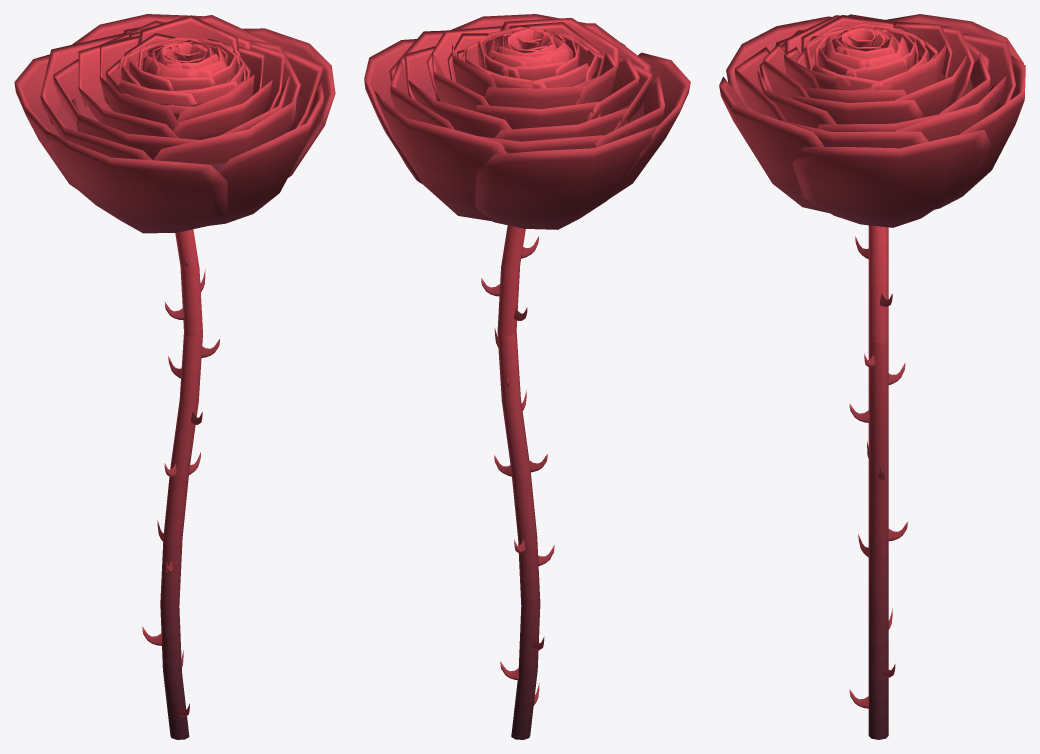
File: Rose_Thorn_Source_Adjusted.fbx
3 views of the same model, side by side, from view 1: azimuth 30°, elevation 25°; view 2: azimuth 150°, elevation 25°; view 3: azimuth 270°, elevation 25° (orthographic).
Parts seen in each view (by area): view 1: Rose_Thorn_Source_Adjusted; view 2: Rose_Thorn_Source_Adjusted; view 3: Rose_Thorn_Source_Adjusted.
Part boxes in pixels (bbox=[...]): Rose_Thorn_Source_Adjusted: bbox=[14, 14, 335, 739]; Rose_Thorn_Source_Adjusted: bbox=[364, 14, 690, 739]; Rose_Thorn_Source_Adjusted: bbox=[719, 14, 1025, 739].
Bounding box in the file's own units: 7.87 × 18.88 × 7.49.
